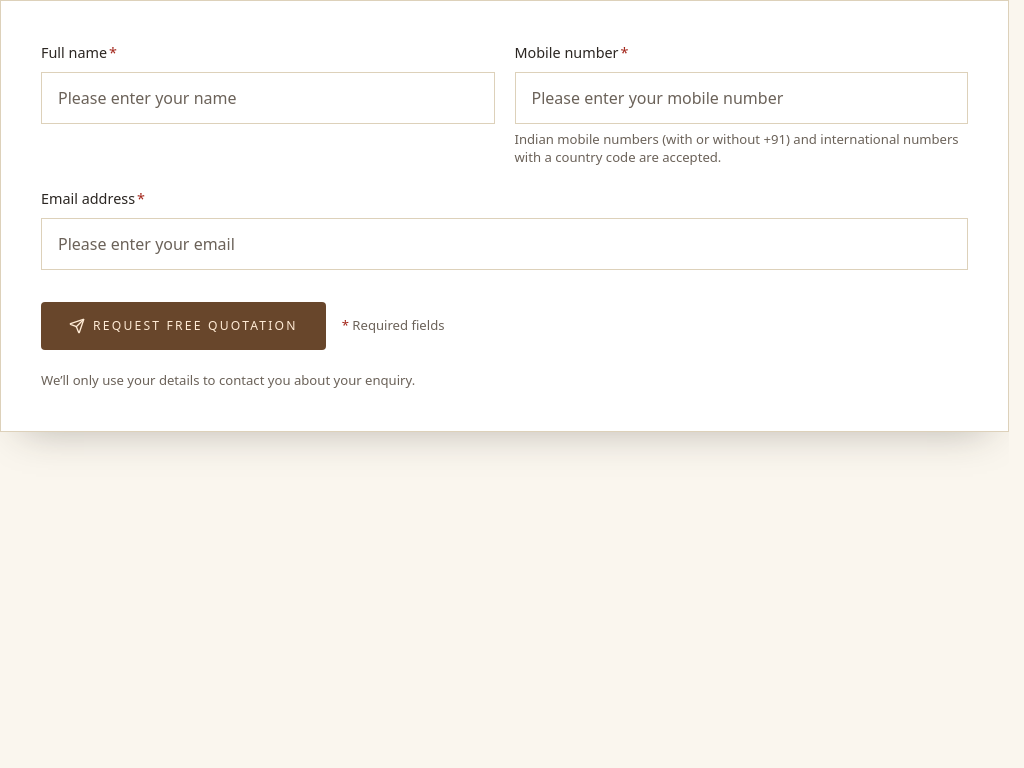
it: client-side validation › rejects an invalid mobile number and explains how to fix it
The image size is (1024, 768).
Type "Asha Rao" into the field labelled "Full name*" at (268, 98), box x1=41 y1=72 x2=494 y2=124
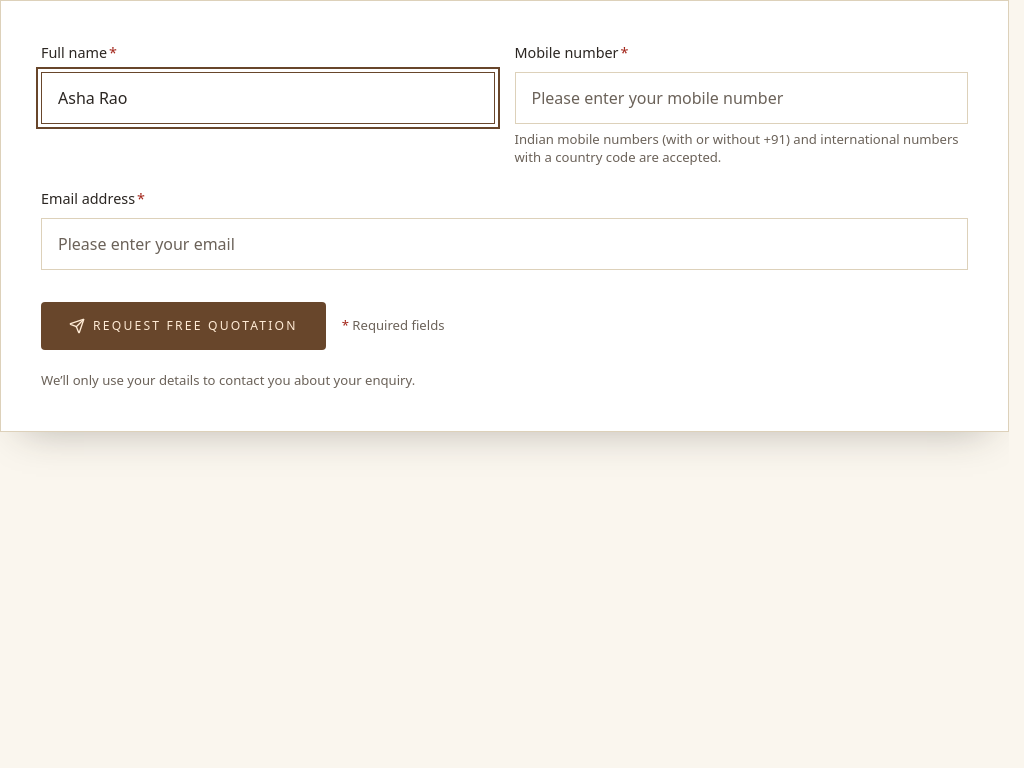
Type "12345" into the field labelled "Mobile number*" at (741, 98), box x1=514 y1=72 x2=968 y2=124
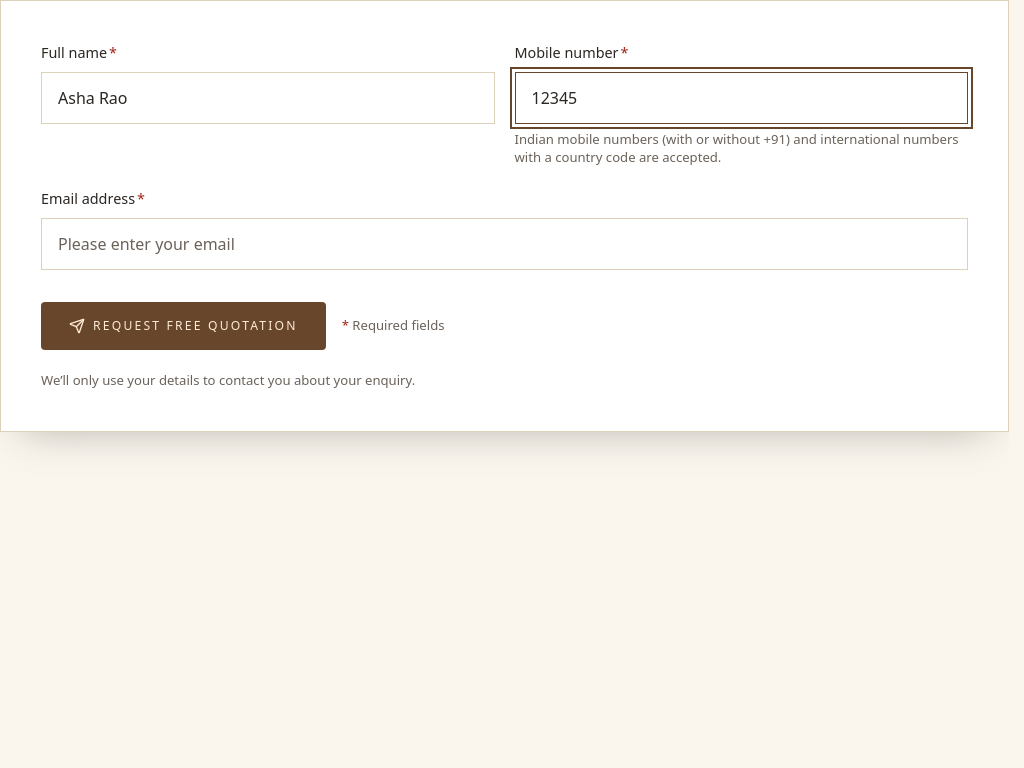
Click the button "Request free quotation" at (183, 326), box x1=41 y1=302 x2=326 y2=350
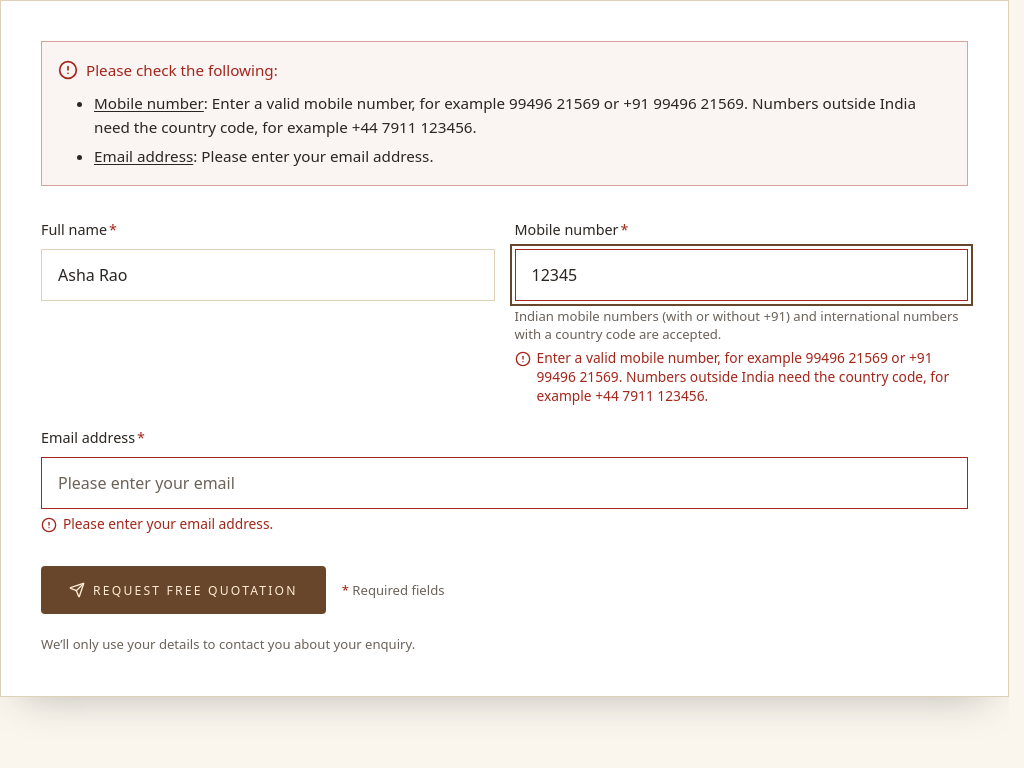
Check: the message with test id "error-summary" shows "valid mobile number", box x1=94 y1=93 x2=916 y2=137
